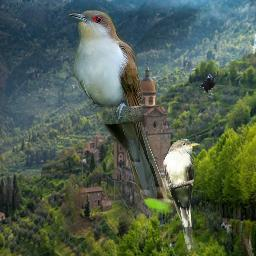Crow: (197, 73, 216, 99)
Cuckoo: (67, 9, 173, 215), (163, 138, 200, 252)
